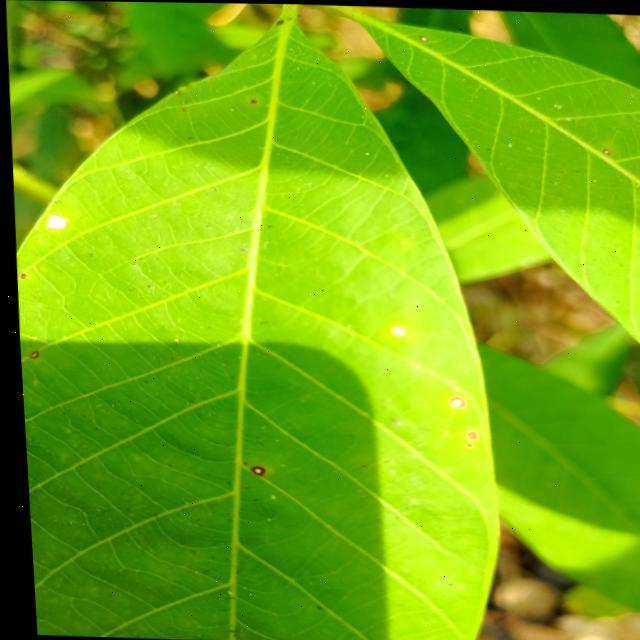Colletotrichum: (44, 212, 65, 230), (443, 394, 460, 407), (386, 323, 402, 335), (245, 465, 260, 475), (24, 350, 35, 358), (461, 429, 471, 437), (16, 273, 23, 279)
